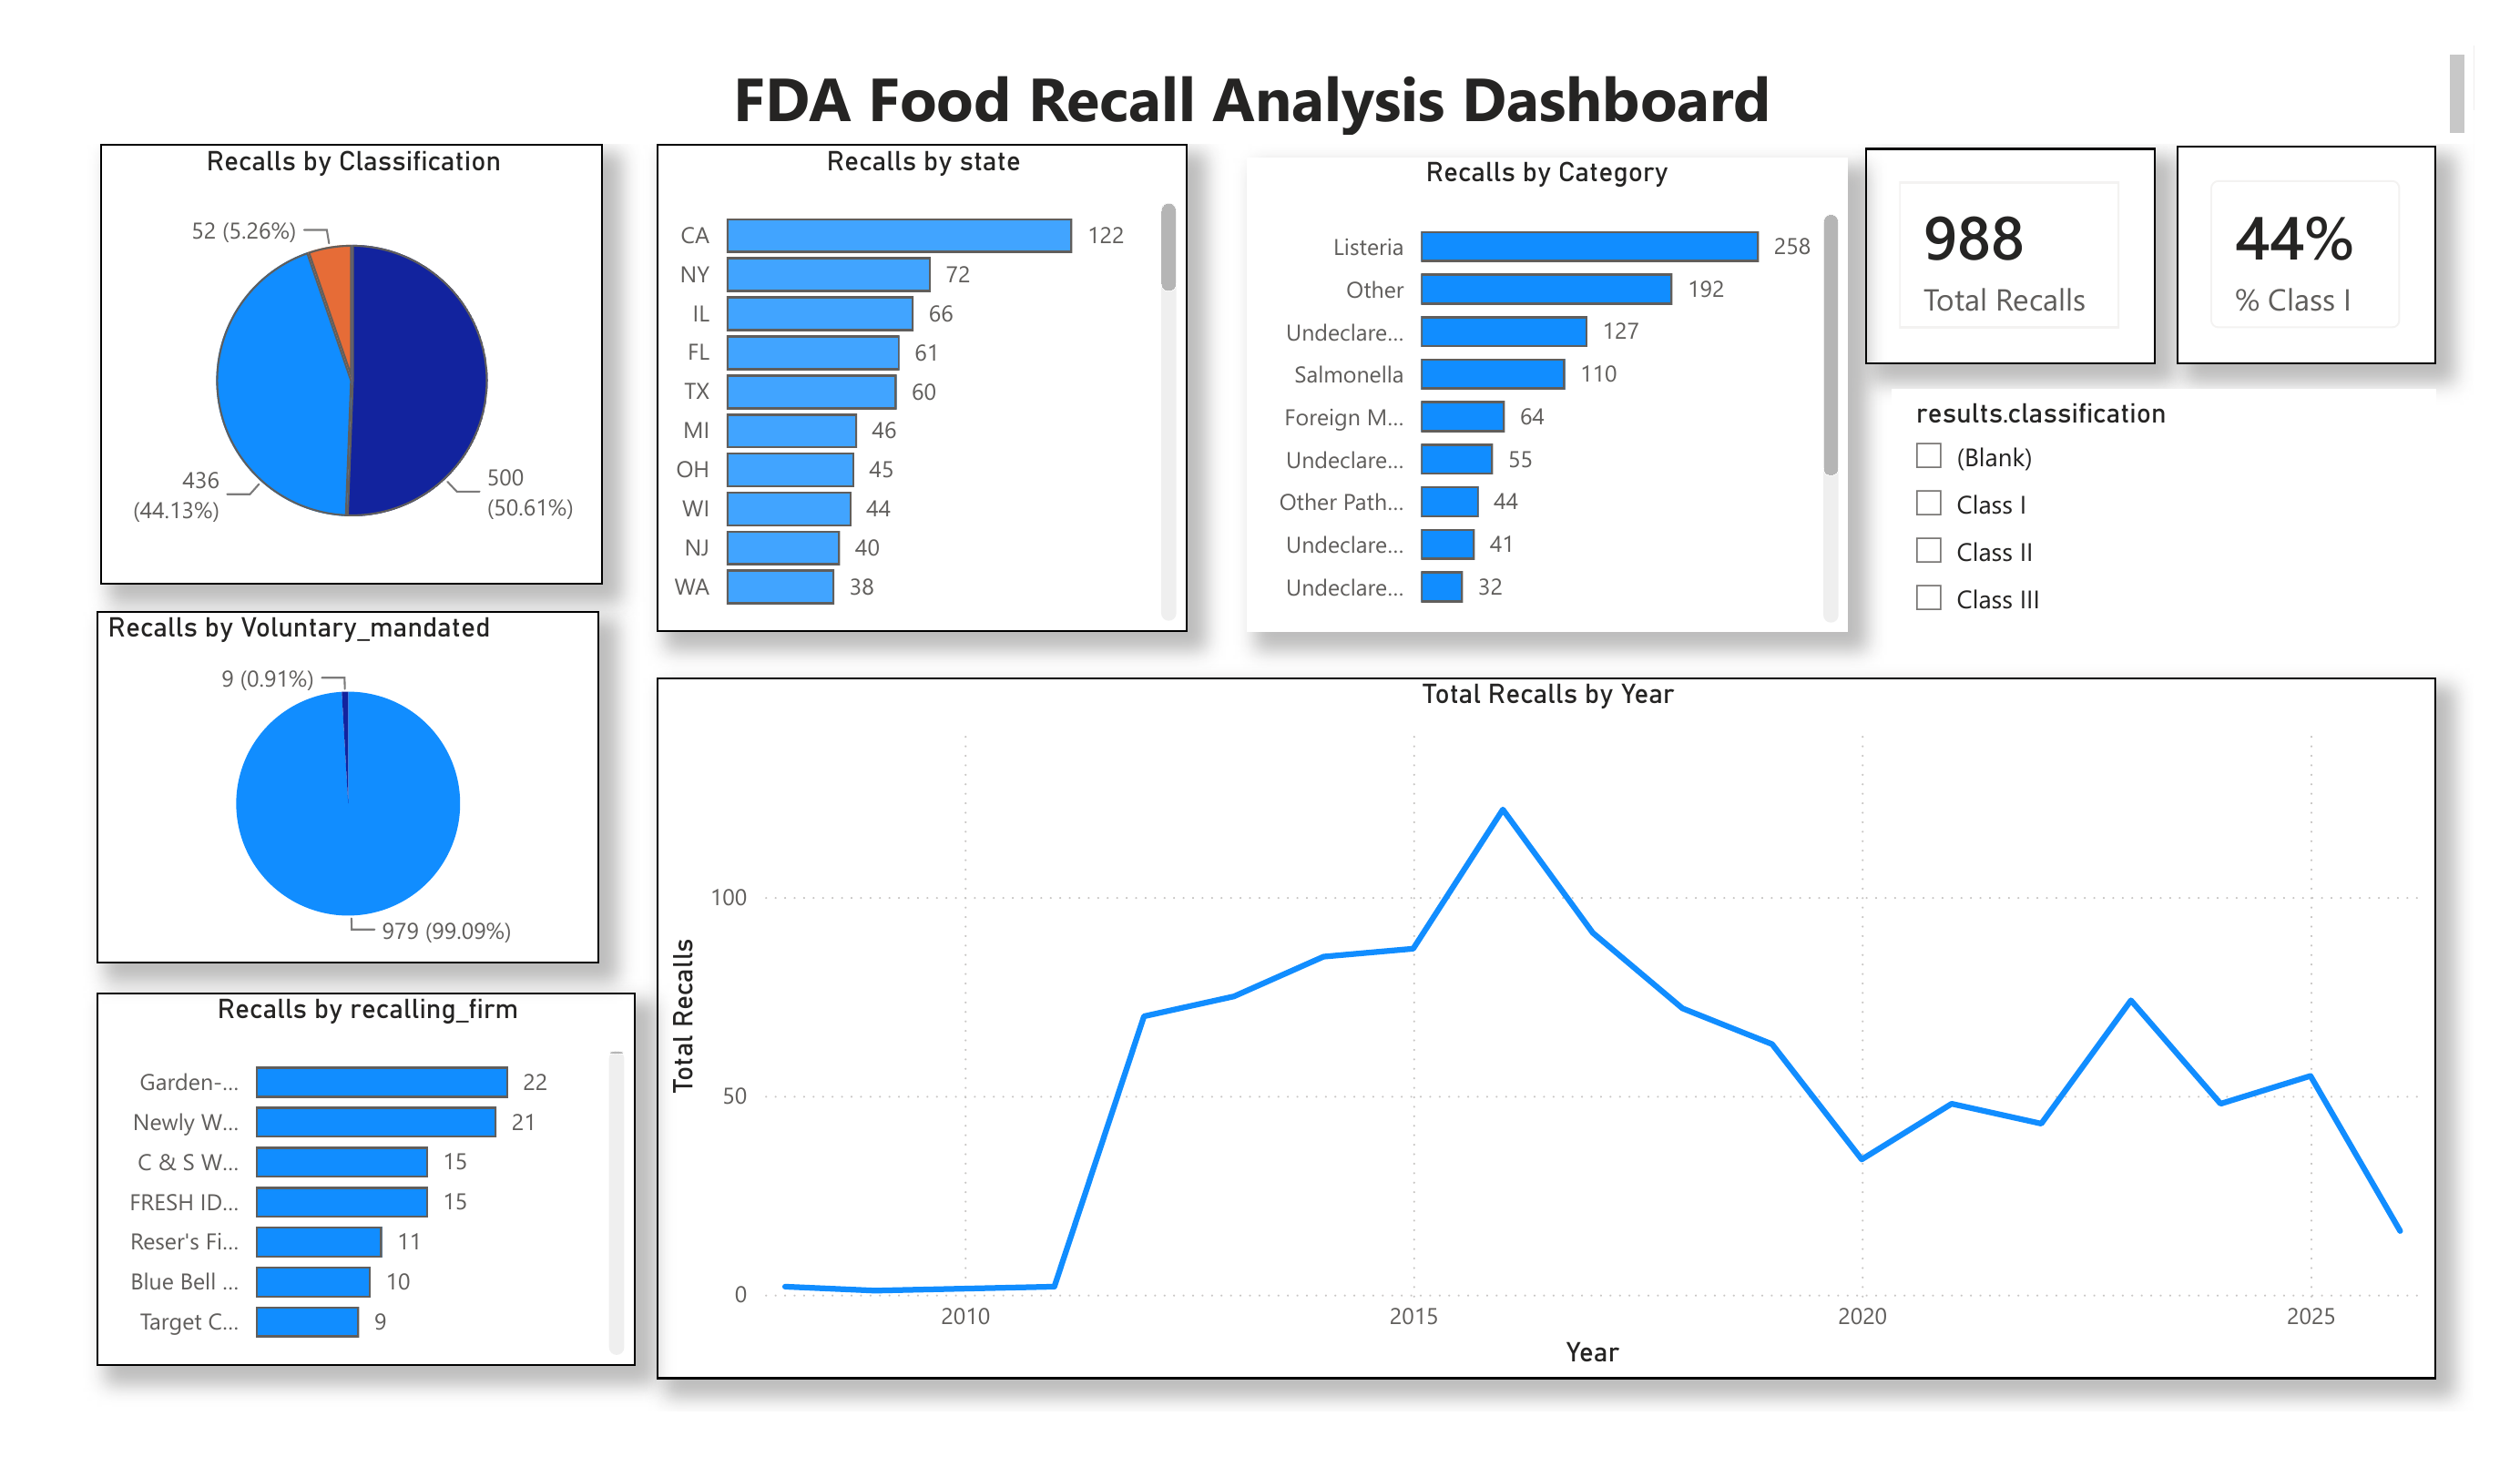

The page's visual inventory and layout, read from the dashboard file:
{"tool":"powerbi","page":{"name":"Page 1","canvas":[1280,720],"ordinal":0},"visuals":[{"type":"cardVisual","fields":{"Data":["data_cleaned.Total Recalls"]},"box":[958.7,53.8,152.9,113.7],"z":0},{"type":"cardVisual","fields":{"Data":["data_cleaned.% Class I"]},"box":[1122.6,52.6,137,114.9],"z":1000},{"type":"pieChart","title":"Recalls by Classification","fields":{"Category":["data_cleaned.results.classification"],"Y":["data_cleaned.Total Recalls"]},"box":[28.8,52.1,264.8,231.9],"z":2000},{"type":"clusteredBarChart","title":"Recalls by state","fields":{"Category":["data_cleaned.results.state"],"Y":["data_cleaned.Total Recalls"]},"box":[322.5,52.1,279.9,256.6],"z":3000},{"type":"clusteredBarChart","title":"Recalls by Category","fields":{"Category":["data_cleaned.RecallReasonCategory"],"Y":["data_cleaned.Total Recalls"]},"box":[632.6,59,317,249.7],"z":4000},{"type":"lineChart","fields":{"Category":["data_cleaned.recall_initiation_date.Variation.Date Hierarchy.Year","data_cleaned.recall_initiation_date.Variation.Date Hierarchy.Quarter","data_cleaned.recall_initiation_date.Variation.Date Hierarchy.Month","data_cleaned.recall_initiation_date.Variation.Date Hierarchy.Day"],"Y":["data_cleaned.Total Recalls"]},"box":[322.5,333.4,937.2,369.1],"z":5000},{"type":"clusteredBarChart","title":"Recalls by recalling_firm","fields":{"Category":["data_cleaned.results.recalling_firm"],"Y":["data_cleaned.Total Recalls"]},"box":[27.4,499.5,284,196.2],"z":6000},{"type":"pieChart","title":"Recalls by Voluntary_mandated","fields":{"Category":["data_cleaned.results.voluntary_mandated"],"Y":["data_cleaned.Total Recalls"]},"box":[27.4,297.8,264.8,186.6],"z":7000},{"type":"textbox","box":[0,0,1280.3,52.1],"z":8000},{"type":"slicer","fields":{"Values":["data_cleaned.results.classification"]},"box":[973.4,181,286.1,132.1],"z":9000}]}

Visuals, with their boxes in screenshot pixels (x1, y1, x2, y2):
cardVisual - data_cleaned.Total Recalls: Rect(1842, 153, 2127, 366)
cardVisual - data_cleaned.% Class I: Rect(2148, 151, 2405, 366)
"Recalls by Classification" pieChart: Rect(100, 150, 596, 585)
"Recalls by state" clusteredBarChart: Rect(650, 150, 1174, 630)
"Recalls by Category" clusteredBarChart: Rect(1230, 163, 1824, 630)
lineChart - data_cleaned.recall_initiation_date.Variation.Date Hierarchy.Year x data_cleaned.recall_initiation_date.Variation.Date Hierarchy.Quarter: Rect(650, 677, 2405, 1368)
"Recalls by recalling_firm" clusteredBarChart: Rect(97, 988, 629, 1355)
"Recalls by Voluntary_mandated" pieChart: Rect(97, 610, 593, 960)
textbox: Rect(46, 53, 2443, 150)
slicer - data_cleaned.results.classification: Rect(1869, 392, 2404, 638)
